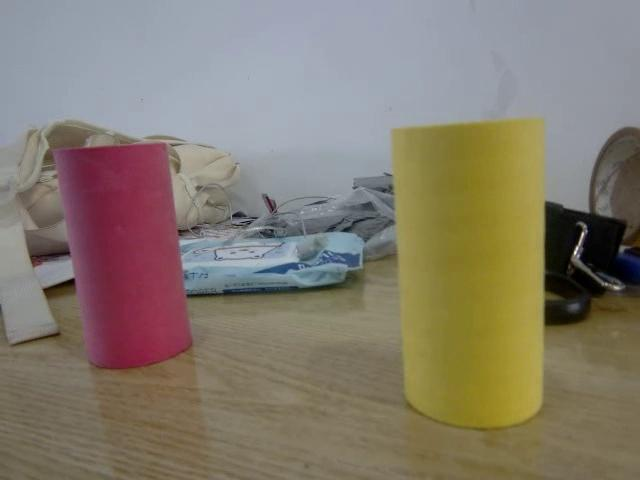red_cylinder: (48, 144, 198, 367)
yellow_cylinder: (381, 117, 553, 428)
